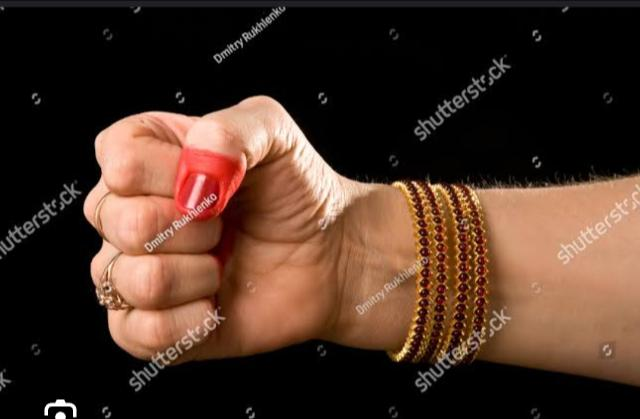mushti: (85, 98, 416, 397)
